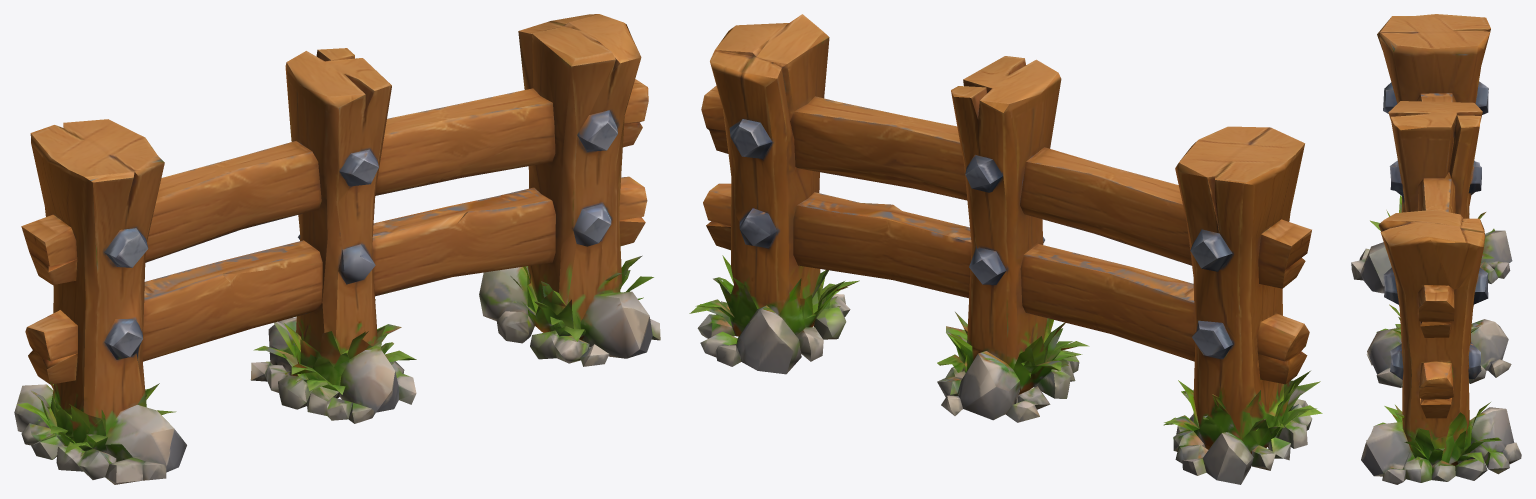
File: fence.glb
The picture shows the model from 3 angles, left to right: view 1: azimuth 30°, elevation 25°; view 2: azimuth 150°, elevation 25°; view 3: azimuth 270°, elevation 25°; orthographic projection. The views are drawn at different scales.
Parts seen in each view (by area): view 1: Body; view 2: Body; view 3: Body.
Part boxes in pixels (x1,y1,x2,y2): Body: (14, 14, 660, 484); Body: (689, 14, 1322, 484); Body: (1351, 14, 1521, 484).
Size of the model in its own units: 2.8 by 1.42 by 0.8393.
Materials: 1 (1 with a texture image).
